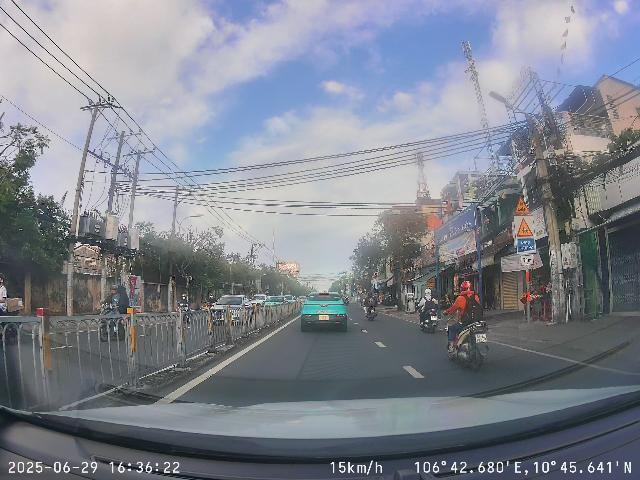225-chu-y-tre-em: (517, 217, 534, 237)
245-di-cham: (515, 196, 531, 214)
